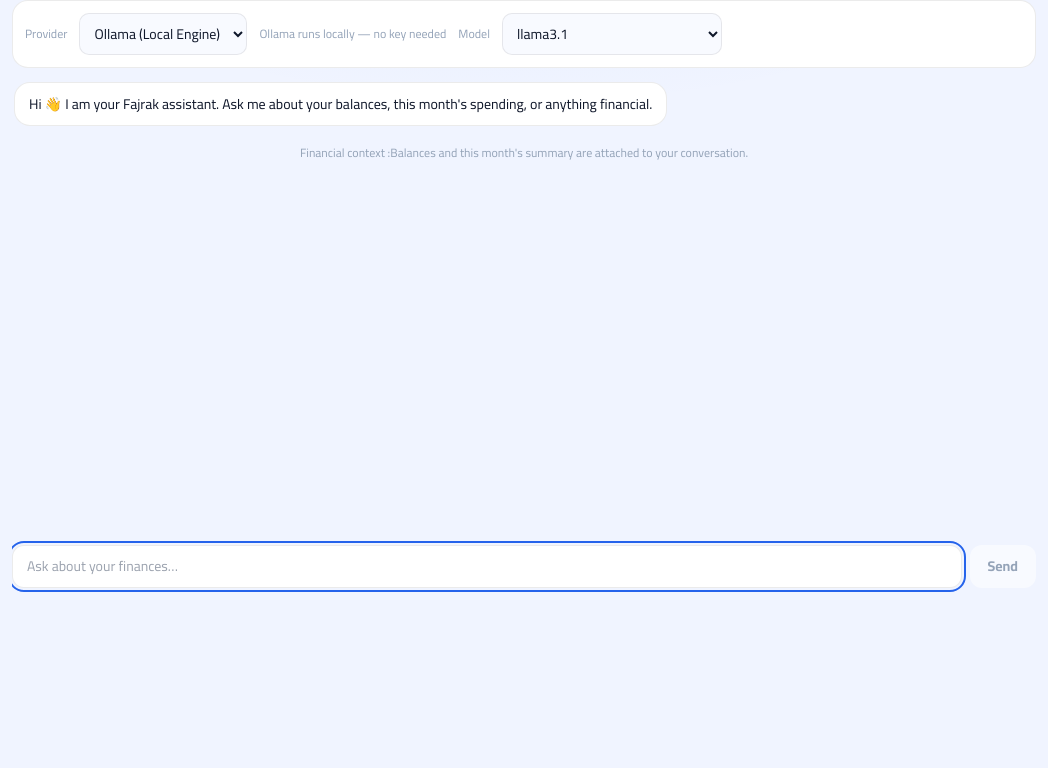
ChatAssistant component › maps upstream statuses to actionable messages › HTTP 404 shows its own message
Select "OpenAI" in the dropdown named "Provider" at (163, 34), box [79,13,247,55]
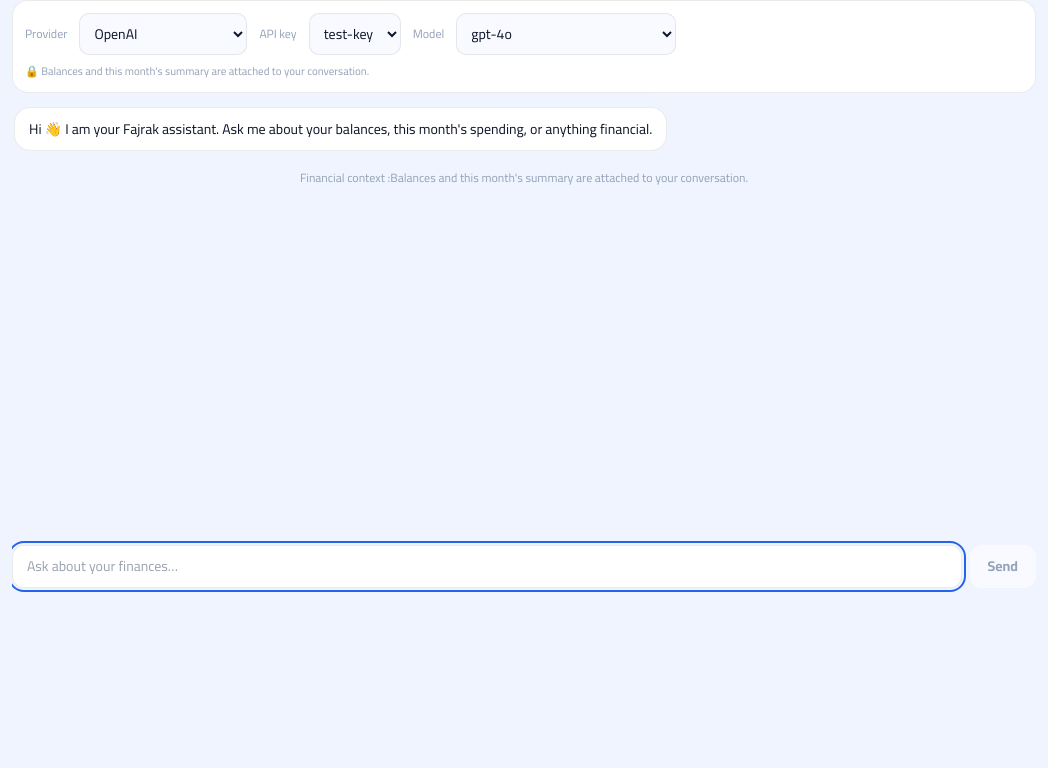
Select "test-key" in the dropdown named "API key" at (355, 34), box [309,13,401,55]
Type "hello" into the field with placeholder "Ask about your finances…".
click(487, 566); type("hello")  # box [12,545,962,588]
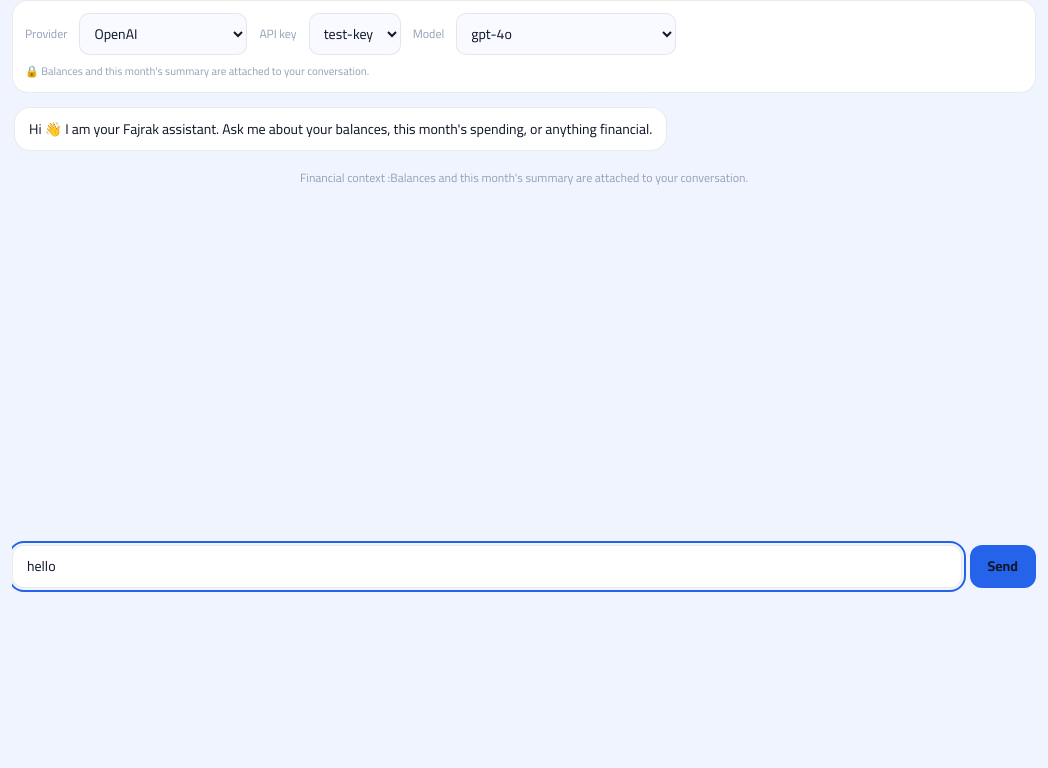
expect the button labelled "Send" is enabled: met
Click the button labelled "Send".
click(1003, 566)  # box [970,545,1036,588]
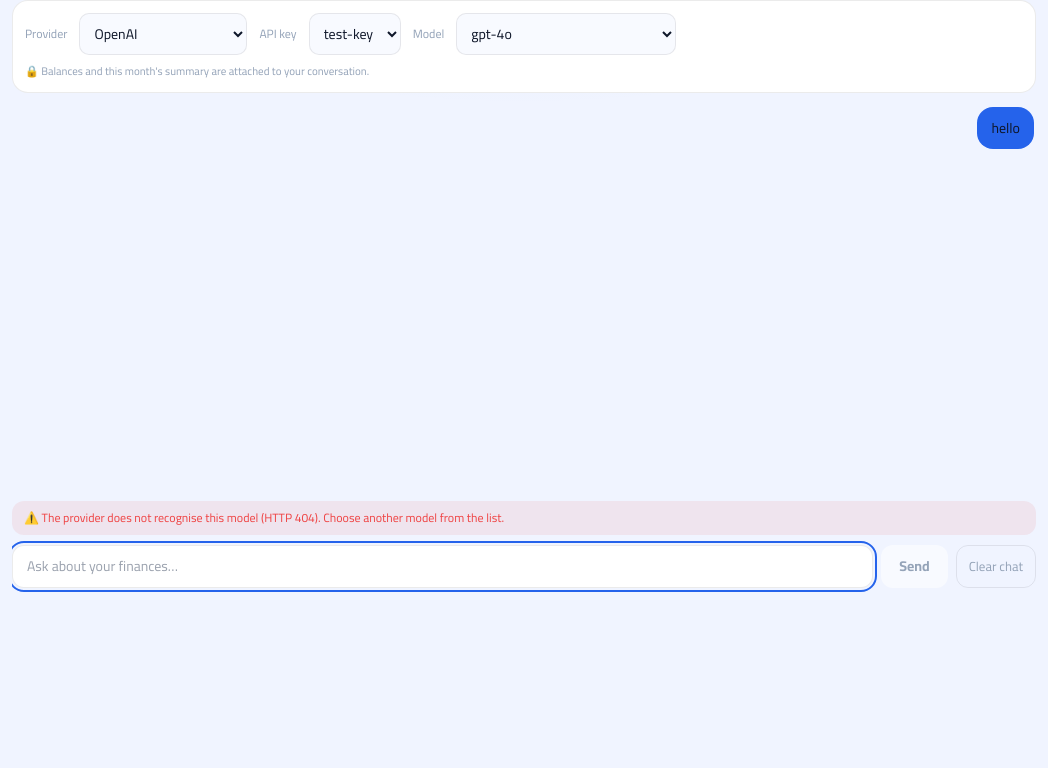
expect the text "does not recognise this model" is shown: met, box [42,506,504,529]
